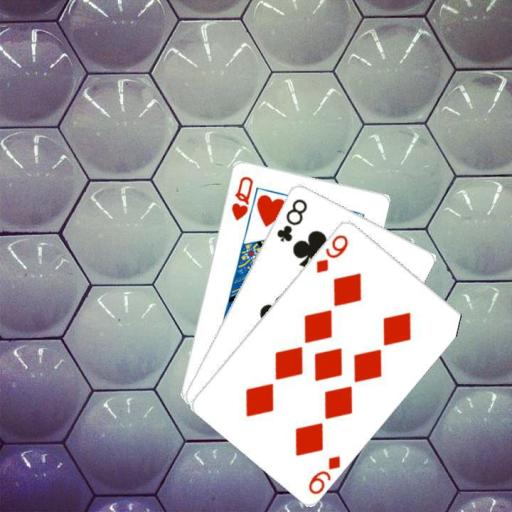8C: (273, 195, 309, 243)
9D: (312, 231, 350, 275), (305, 452, 342, 496)
QH: (228, 173, 255, 222)
